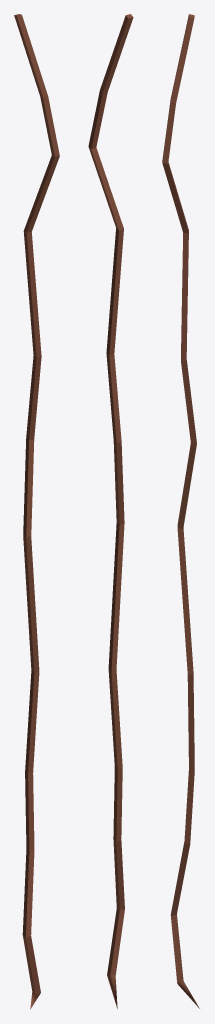
Rendered from Liana8.FBX.
3 renders of one model, left to right at view 1: azimuth 30°, elevation 25°; view 2: azimuth 210°, elevation 25°; view 3: azimuth 270°, elevation 25°, orthographic.
Visible parts, largest first — view 1: Liana8; view 2: Liana8; view 3: Liana8.
Boxes of the visible parts, x1,y1,x2,y2 form: Liana8: [14, 14, 59, 1009]; Liana8: [88, 14, 133, 1008]; Liana8: [162, 14, 199, 1008].
Size of the model in its own units: 0.3611 by 11.59 by 0.4062.
